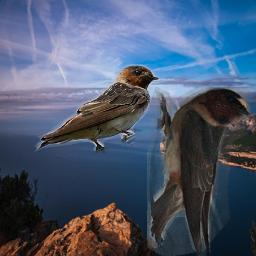Swallow: (147, 87, 250, 256), (34, 63, 160, 154)
